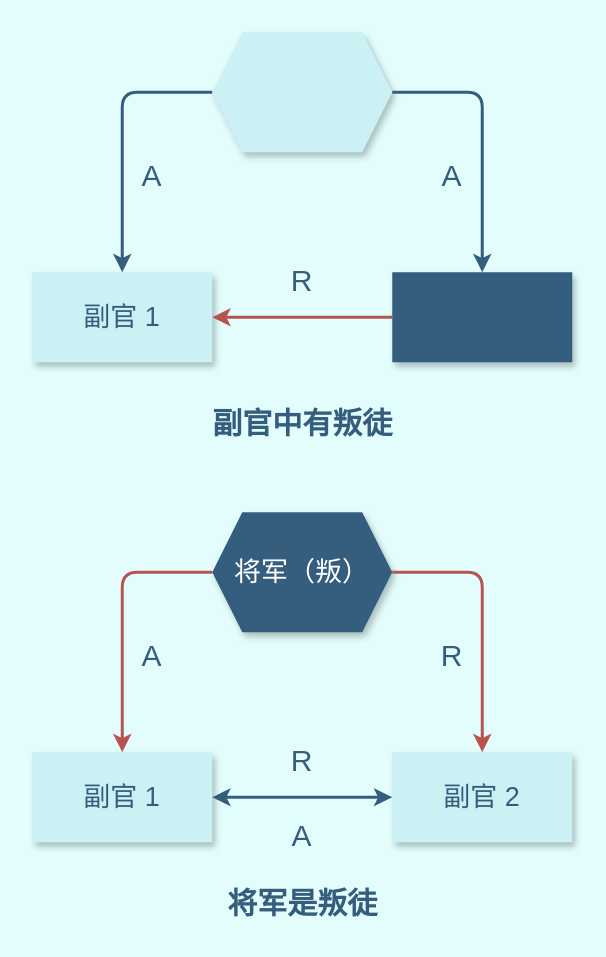
The diagram is 606 pixels wide and 957 high, and some of its shapes have lost their labels. Here are the shapes that lost their labels. From the top down, the centre of each, then its label:
the point at 303,94: 将军
the point at 483,319: 副官 2（叛）
